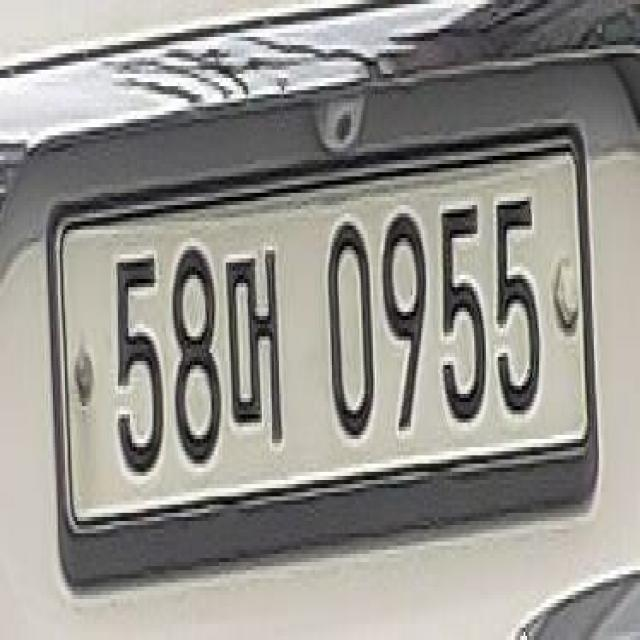0: (324, 194, 376, 449)
5: (437, 187, 494, 427), (112, 244, 166, 476), (498, 188, 541, 433)
8: (170, 233, 222, 479)
9: (377, 188, 432, 432)
license_plate: (37, 108, 611, 613)
meo: (225, 232, 298, 459)
